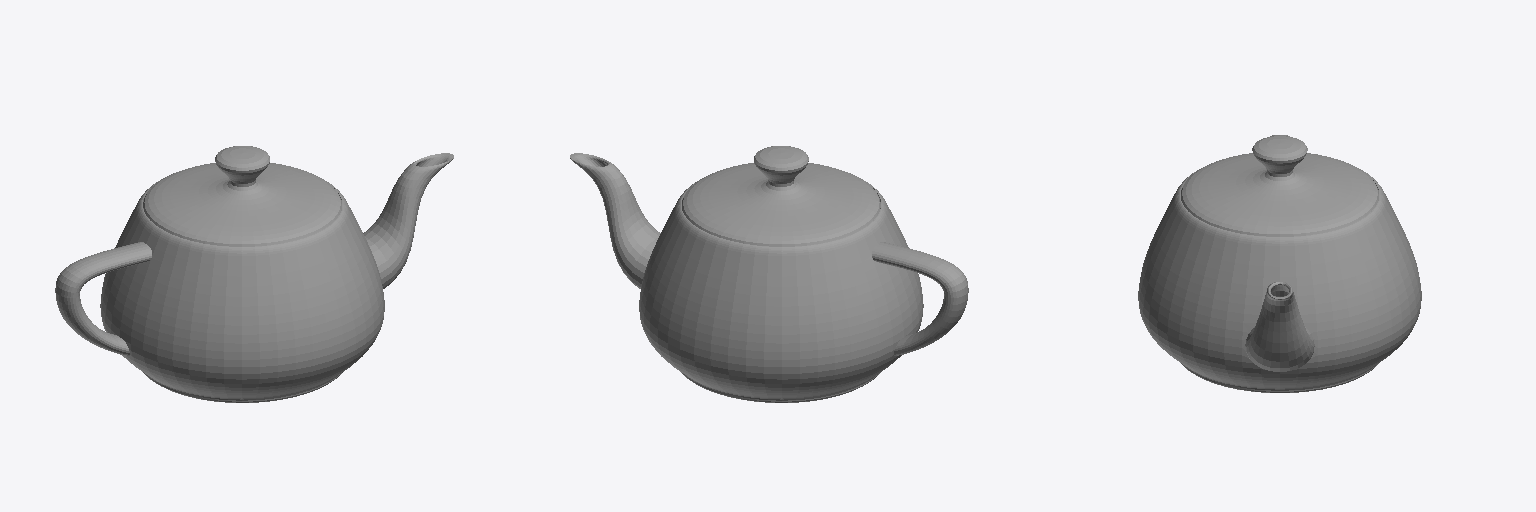
Rendered from Teapot.obj.
The picture shows the model from 3 angles: view 1: azimuth 30°, elevation 25°; view 2: azimuth 150°, elevation 25°; view 3: azimuth 270°, elevation 25°; orthographic projection.
Parts seen in each view (by area): view 1: Base, Top; view 2: Base, Top; view 3: Base, Top.
Part boxes in pixels (x1,y1,x2,y2): Base: (55,153,453,402); Top: (143,146,341,246); Base: (570,153,968,402); Top: (682,146,880,246); Base: (1138,135,1421,392); Top: (1181,136,1378,236).
Bounding box in the file's own units: 154 × 79.01 × 95.86.